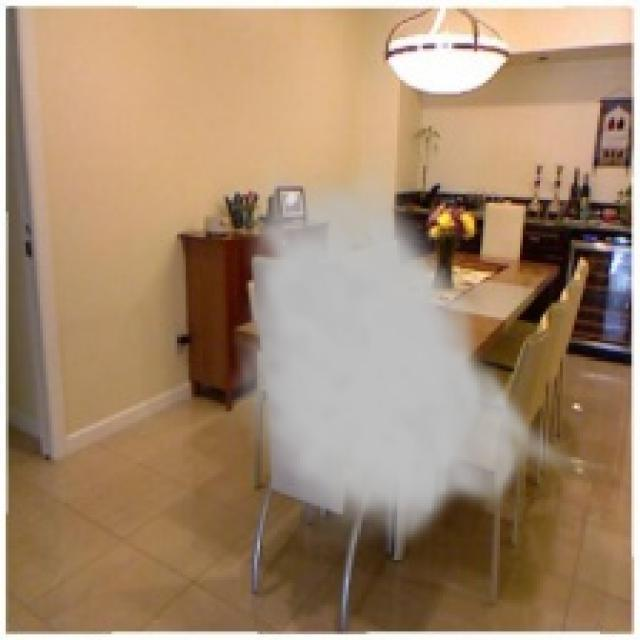Smoke: (228, 148, 592, 558)
